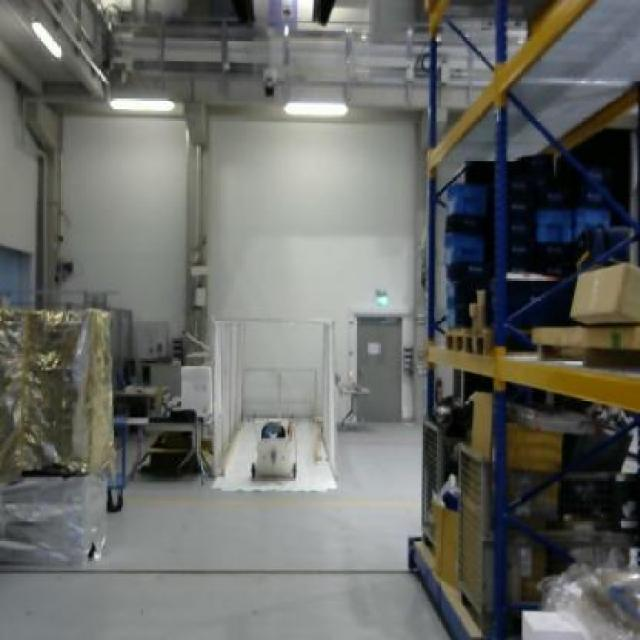box: (566, 262, 640, 322), (467, 391, 495, 460)
